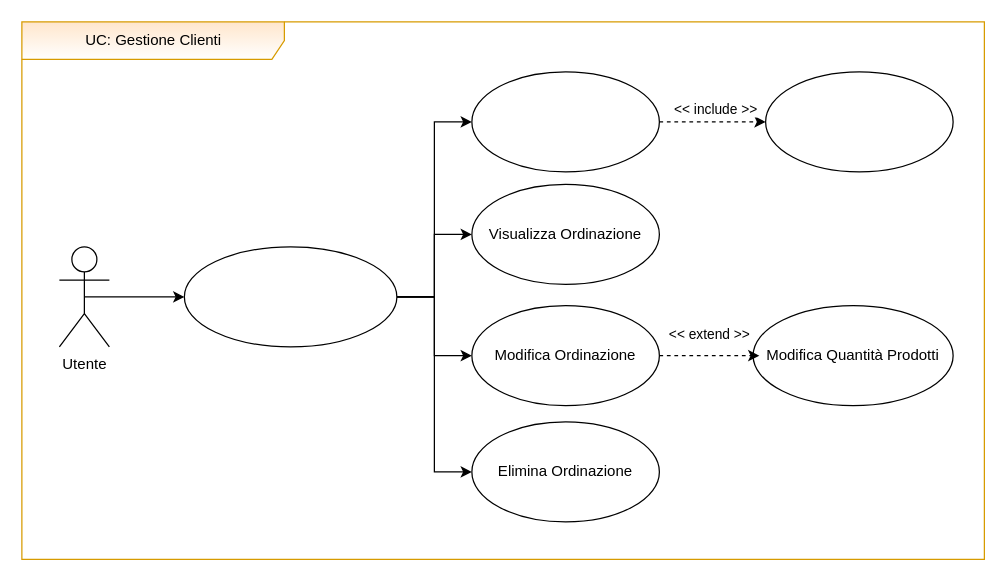
The diagram is 1006 pixels wide and 581 high, and some of its shapes have lost their labels. Each missing label, with the box of its shape:
Calcola Totale Ordinazione: (764, 71, 953, 172)
Crea Nuova Ordinazione: (471, 71, 659, 172)
Visualizza Lista Ordinazioni: (183, 246, 397, 347)
